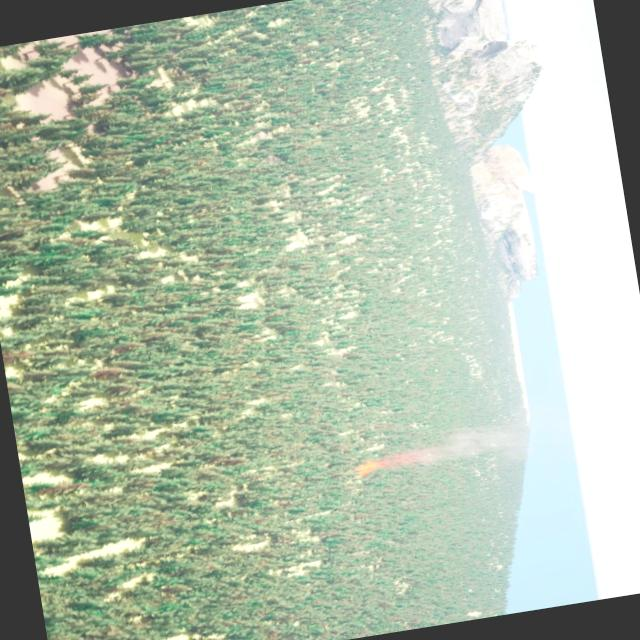fire: (346, 458, 384, 481)
smoke: (386, 412, 540, 478)
